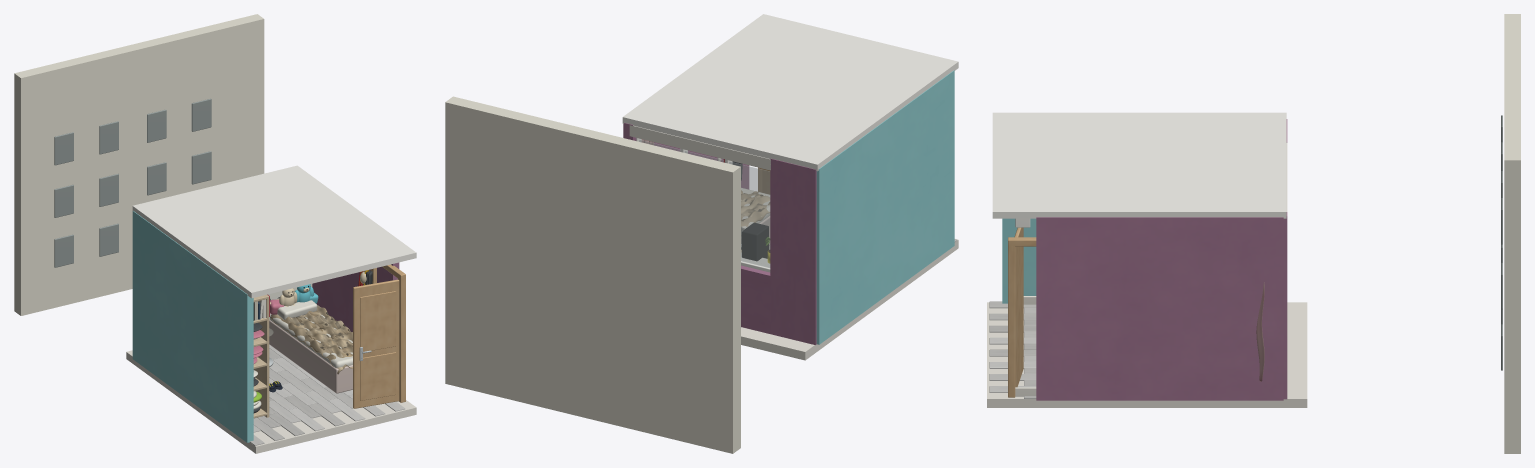
File: kimik3.1.glb
3 renders of one model, left to right at view 1: azimuth 30°, elevation 25°; view 2: azimuth 150°, elevation 25°; view 3: azimuth 270°, elevation 25°, orthographic. The views are drawn at different scales.
Visible parts, largest first — view 1: Exterior opposite facade, Ceiling, Left turquoise wall, Floor slab, Right patterned rumpled duvet, Open wooden door, Right single bed lower divan, Door recessed panel.001, Right mauve wall, Door recessed panel, Wardrobe vertical side.001, Door frame front upright (+12 smaller); view 2: Exterior opposite facade, Ceiling, Left turquoise wall, Back wall left, Clear window pane, Floor slab, Back wall below window, Back wall above window, Black desktop tower, Right patterned rumpled duvet; view 3: Right mauve wall, Ceiling, Exterior opposite facade, Floor slab, Left turquoise wall, Open wooden door, Door frame front upright, Back wall right.
Boxes of the visible parts, bbox=[...] form: Exterior opposite facade: bbox=[14, 14, 264, 315]; Ceiling: bbox=[132, 165, 416, 298]; Left turquoise wall: bbox=[132, 211, 253, 442]; Floor slab: bbox=[126, 350, 416, 453]; Right patterned rumpled duvet: bbox=[270, 305, 352, 374]; Open wooden door: bbox=[353, 279, 399, 408]; Right single bed lower divan: bbox=[269, 320, 352, 393]; Door recessed panel.001: bbox=[360, 291, 396, 351]; Right mauve wall: bbox=[312, 262, 399, 331]; Door recessed panel: bbox=[360, 352, 396, 400]; Wardrobe vertical side.001: bbox=[253, 298, 269, 417]; Door frame front upright: bbox=[398, 277, 405, 402]; Exterior opposite facade: bbox=[445, 96, 740, 453]; Ceiling: bbox=[622, 14, 958, 171]; Left turquoise wall: bbox=[816, 70, 954, 344]; Back wall left: bbox=[770, 158, 816, 344]; Clear window pane: bbox=[729, 161, 770, 267]; Floor slab: bbox=[741, 239, 958, 360]; Back wall below window: bbox=[741, 265, 770, 334]; Back wall above window: bbox=[629, 125, 770, 170]; Black desktop tower: bbox=[742, 222, 768, 261]; Right patterned rumpled duvet: bbox=[741, 190, 770, 226]; Right mauve wall: bbox=[1036, 217, 1283, 400]; Ceiling: bbox=[992, 112, 1286, 218]; Exterior opposite facade: bbox=[1504, 14, 1520, 453]; Floor slab: bbox=[987, 302, 1307, 407]; Left turquoise wall: bbox=[1002, 218, 1036, 303]; Open wooden door: bbox=[1014, 227, 1023, 387]; Door frame front upright: bbox=[1008, 244, 1015, 397]; Back wall right: bbox=[1283, 212, 1287, 399].
Size of the model in its own units: 4.6 by 4.3 by 7.08.
Materials: 49 (20 with a texture image).
